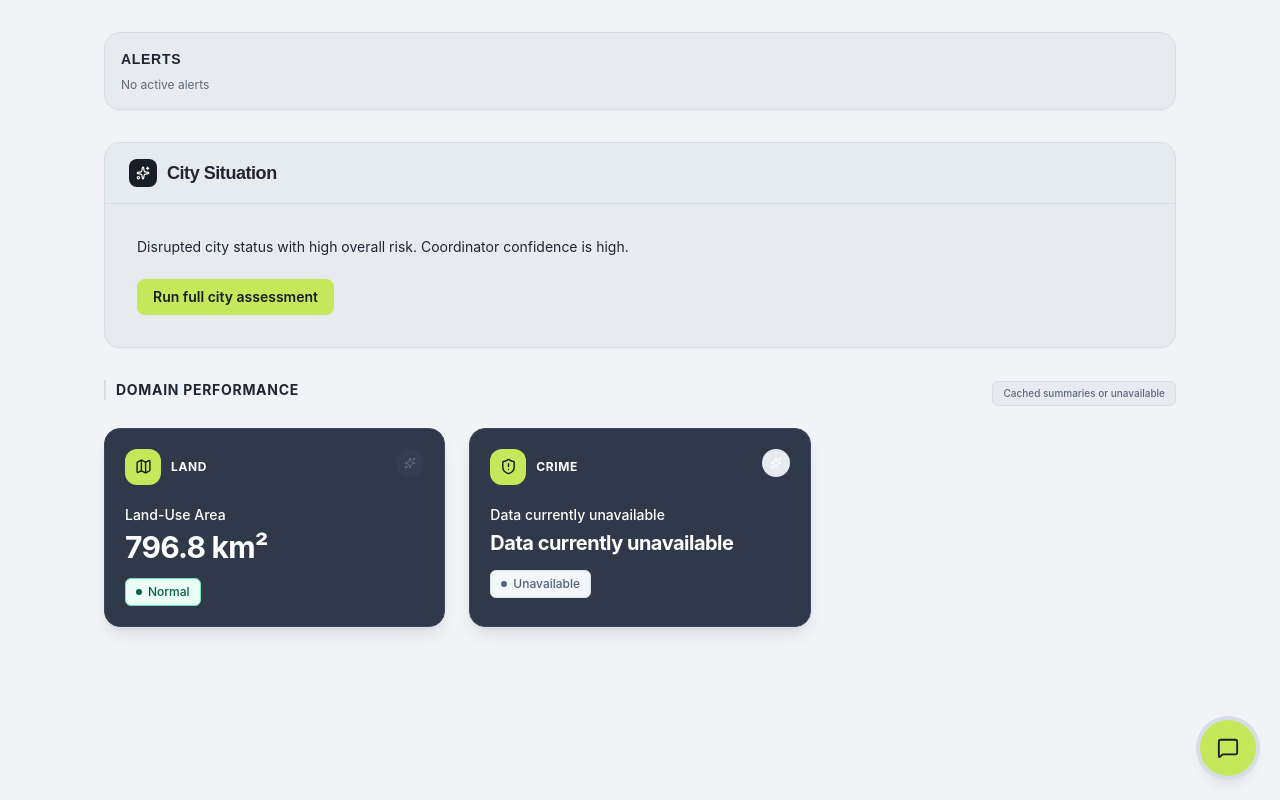
Test: City Overview page › closes the insight panel again
The image size is (1280, 800).
What coordinates should you click on to do the following:
click the 1st button with test id "kpi-insight-button"
I would click on:
 (410, 463)
Its box is [396,449,424,477].
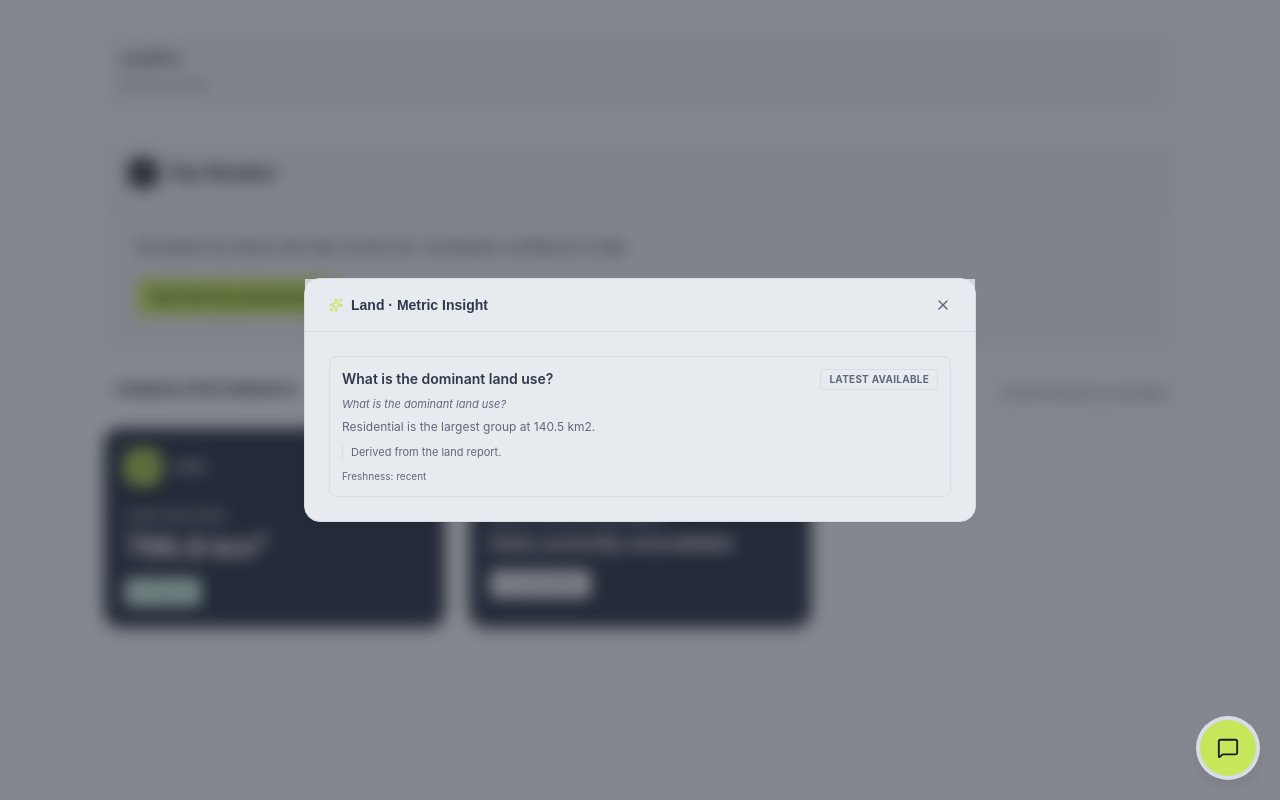
Expected: the dialog with test id "kpi-insight-panel" is shown, [304,278,976,522]
What coordinates should you click on to do the following:
click the button with test id "kpi-insight-close"
I would click on:
 (943, 305)
Its box is [935,297,951,313].
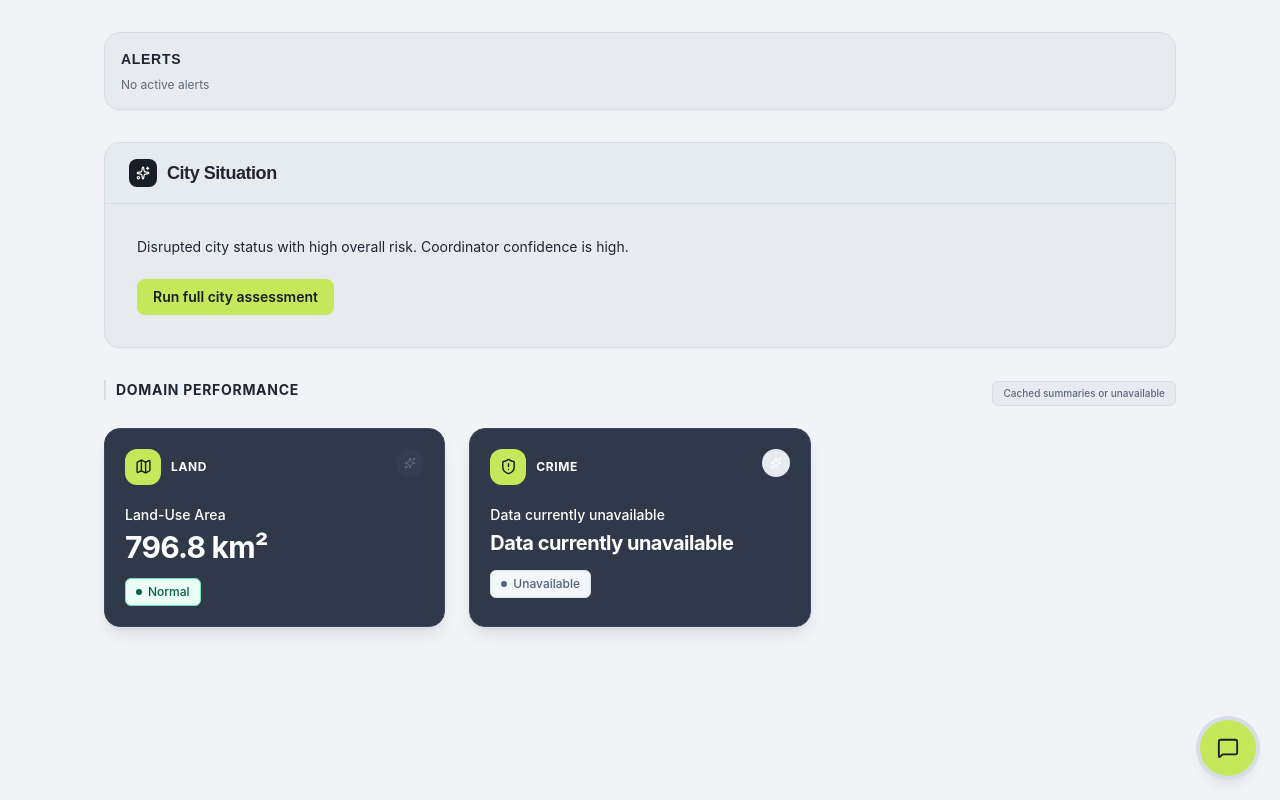
Expected: the dialog with test id "kpi-insight-panel" is gone
